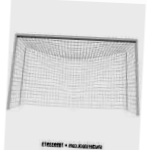goals: (6, 32, 141, 118)
